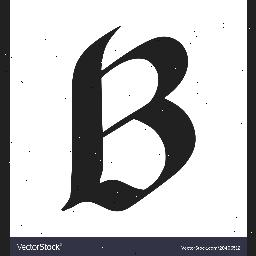b: (83, 50, 177, 196)
